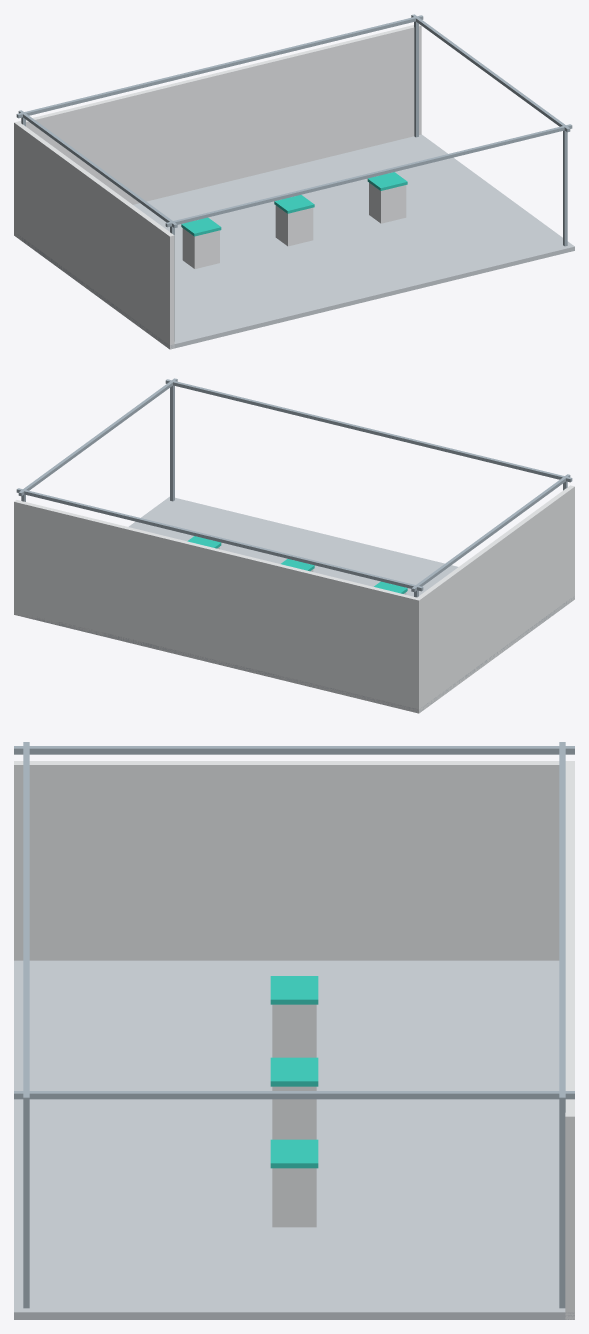
3 views of the same model, one above another, from view 1: azimuth 30°, elevation 25°; view 2: azimuth 150°, elevation 25°; view 3: azimuth 270°, elevation 25° (orthographic). The views are drawn at different scales.
Parts seen in each view (by area): view 1: Exhibition Booth Concept; view 2: Exhibition Booth Concept; view 3: Exhibition Booth Concept.
Boxes of the visible parts, x1=… form: Exhibition Booth Concept: x1=14, y1=14, x2=574, y2=349; Exhibition Booth Concept: x1=14, y1=378, x2=574, y2=713; Exhibition Booth Concept: x1=14, y1=742, x2=574, y2=1319.
Bounding box in the file's own units: 12 × 3.49 × 8.
